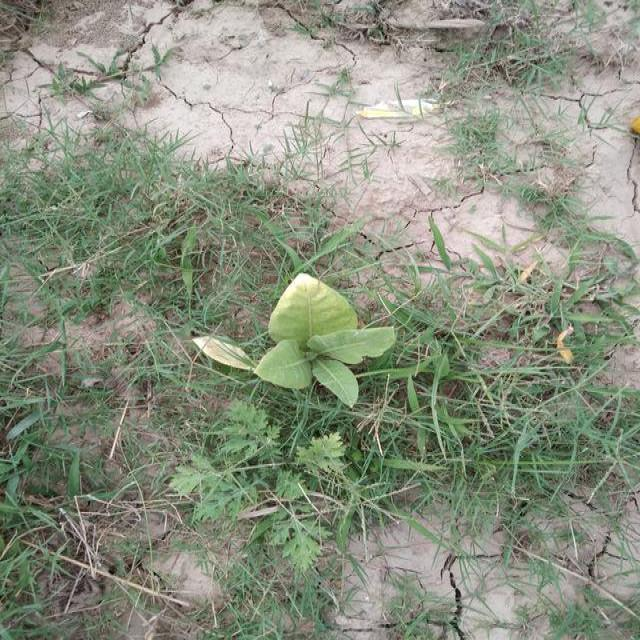crop: (192, 251, 402, 411)
